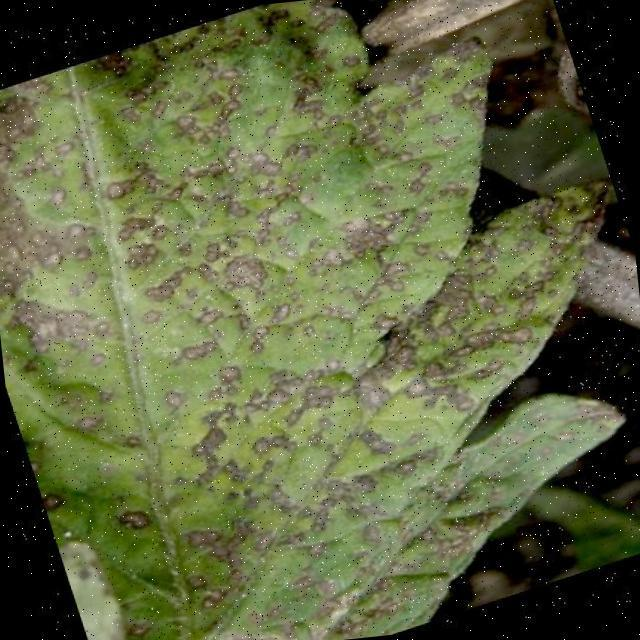Bacterial: (0, 99, 502, 640)
